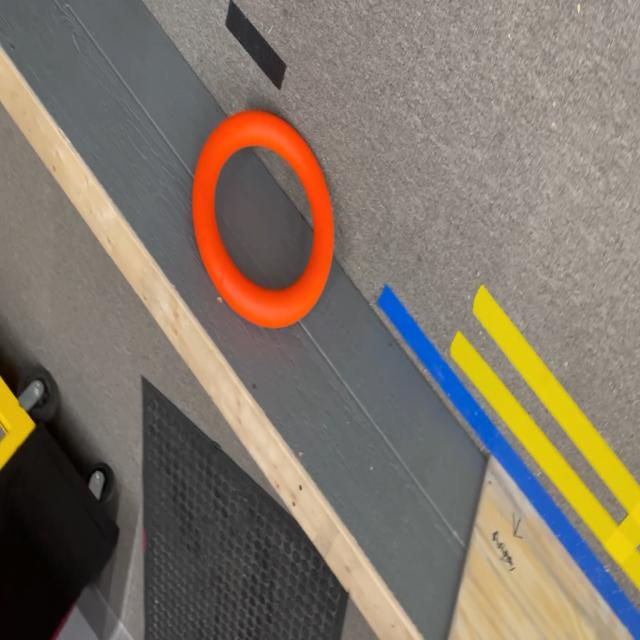note: (192, 112, 334, 328)
